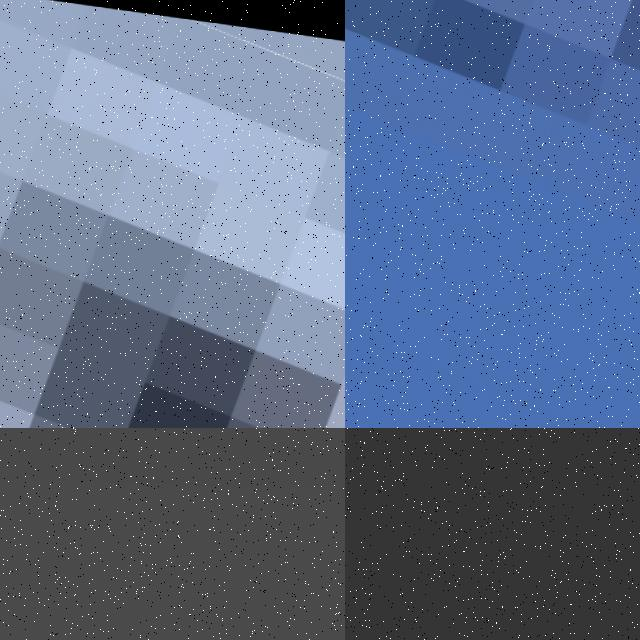0: (345, 0, 640, 428)
drone: (0, 0, 345, 428)
